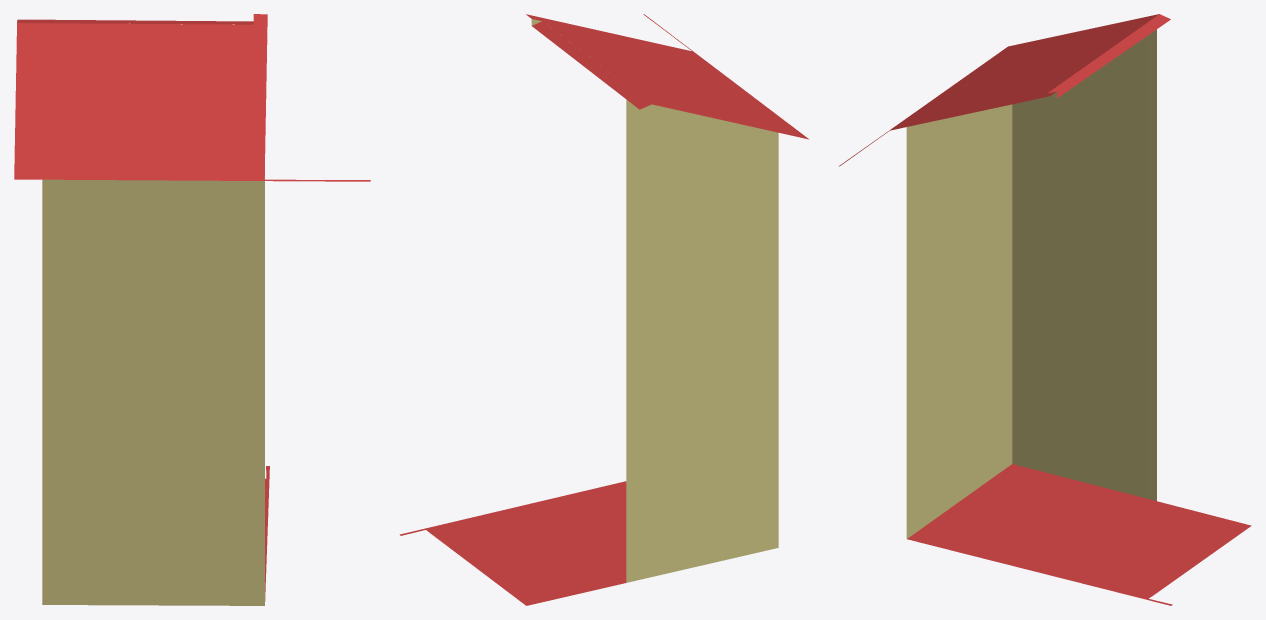
3 renders of one model, left to right at view 1: azimuth 30°, elevation 25°; view 2: azimuth 150°, elevation 25°; view 3: azimuth 270°, elevation 25°, orthographic. The views are drawn at different scales.
Size of the model in its own units: 7.7 by 8.64 by 11.04.
